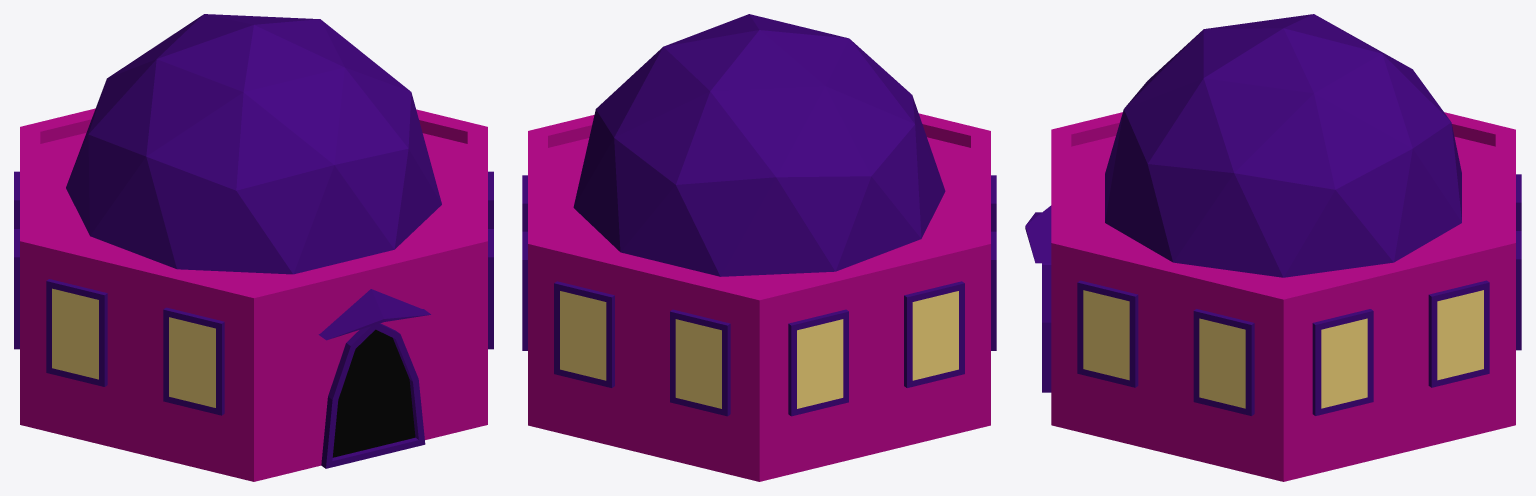
The model's file is house-small-one.fbx.
3 renders of one model, left to right at view 1: azimuth 30°, elevation 25°; view 2: azimuth 150°, elevation 25°; view 3: azimuth 270°, elevation 25°, orthographic.
Visible parts, largest first — view 1: Empty_Mesh; view 2: Empty_Mesh; view 3: Empty_Mesh.
Boxes of the visible parts, left/top/right/bottom form: Empty_Mesh: left=14, top=14, right=493, bottom=481; Empty_Mesh: left=522, top=14, right=996, bottom=481; Empty_Mesh: left=1025, top=14, right=1521, bottom=481.
Bounding box in the file's own units: 800 × 560 × 740.
